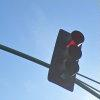traffic lights: (49, 28, 85, 88)
